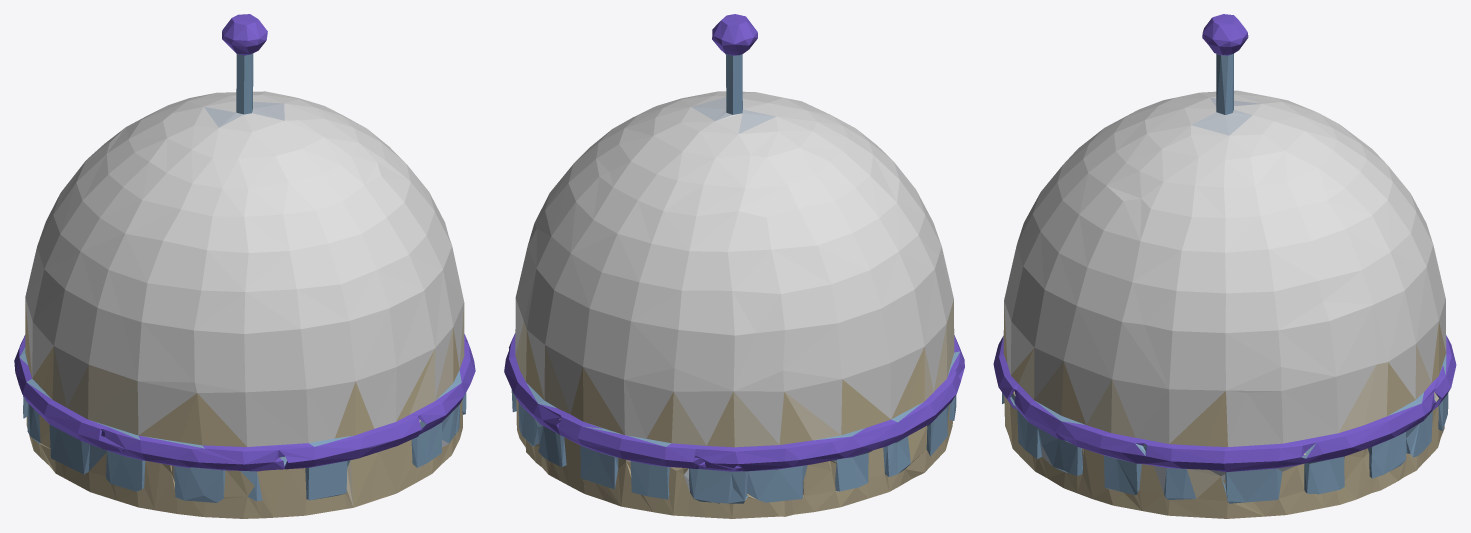
Rendered from hall-hunyuan-A.glb.
The picture shows the model from 3 angles, left to right: view 1: azimuth 30°, elevation 25°; view 2: azimuth 150°, elevation 25°; view 3: azimuth 270°, elevation 25°; orthographic projection.
Parts seen in each view (by area): view 1: hall; view 2: hall; view 3: hall.
Part boxes in pixels (<box>): hall: <box>14,14,475,518</box>; hall: <box>504,14,964,518</box>; hall: <box>993,14,1456,518</box>.
Bounding box in the file's own units: 2.16 × 2.1 × 2.16.
